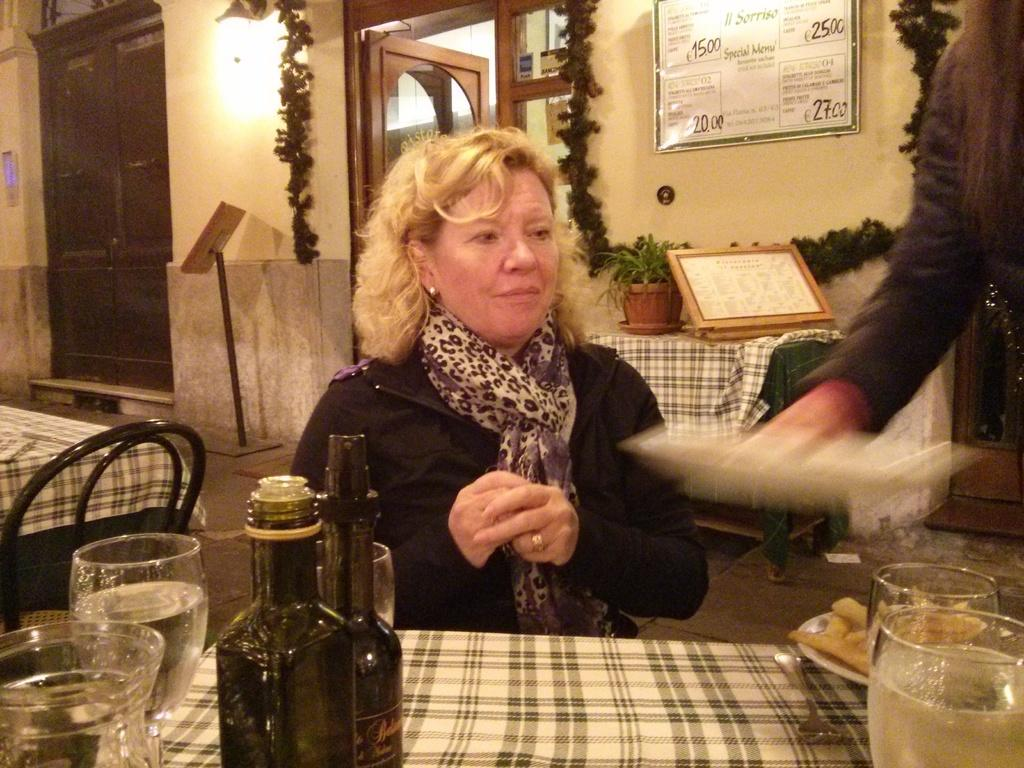Sem Máscara: (434, 162, 558, 346)
